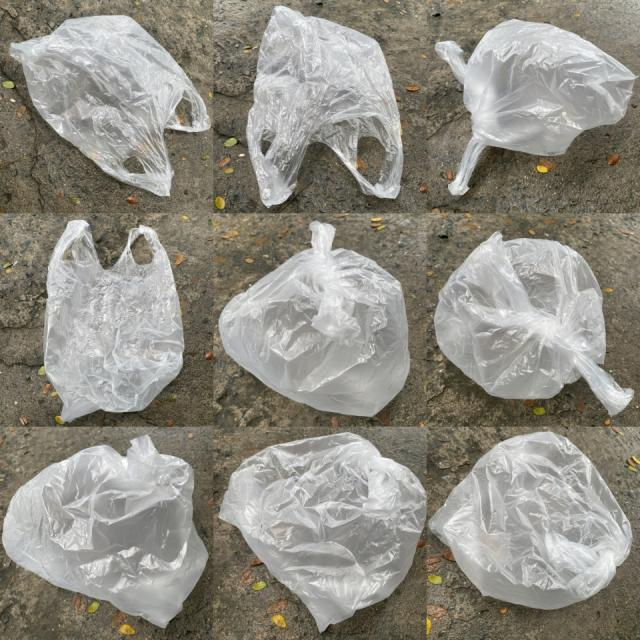Single-layer Plastic: (219, 432, 426, 632), (2, 435, 208, 628), (219, 221, 410, 416), (434, 232, 634, 416), (10, 16, 210, 196), (429, 432, 632, 609), (435, 19, 636, 195), (246, 6, 404, 206), (44, 220, 184, 421)
